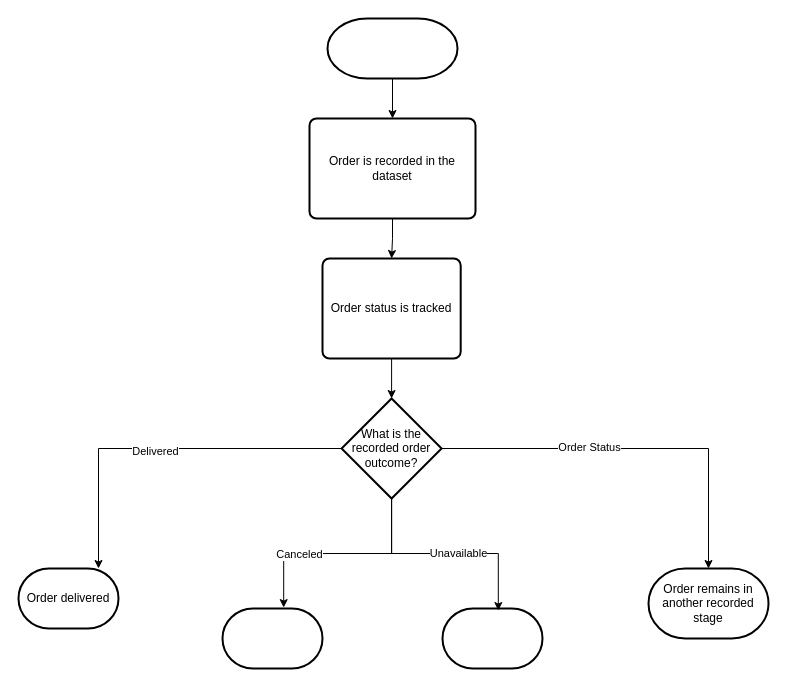
This 786x686 diagram has some shape labels left out. The centre of each missing label's shape, as x and y in pixels:
Order canceled: the point at 272,638
Order unavailable: the point at 492,638
Start: Customer places order: the point at 392,48
